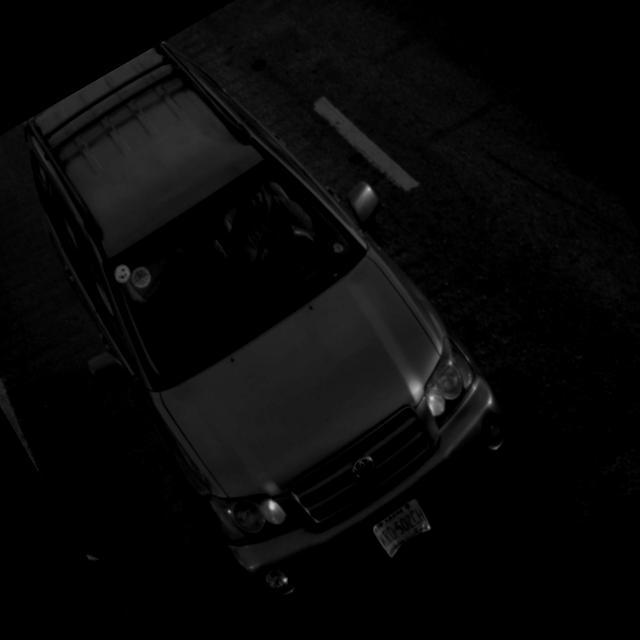windshield: (109, 148, 363, 400)
